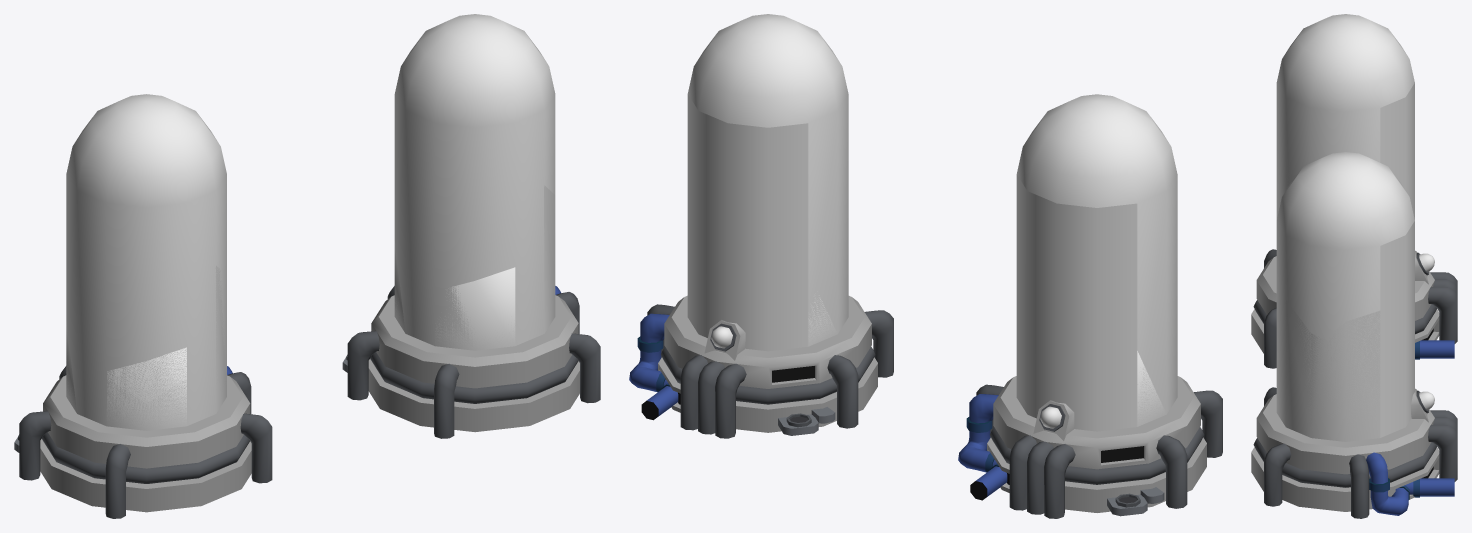
The model's file is cryotube.fbx.
3 renders of one model, left to right at view 1: azimuth 30°, elevation 25°; view 2: azimuth 150°, elevation 25°; view 3: azimuth 270°, elevation 25°, orthographic. The views are drawn at different scales.
Visible parts, largest first — view 1: CryotubeGlassGreen, CryotubeGlassBlue, CryotubeBaseGreen, CryotubeBaseBlue, CryotubeGlassBrokenGreen, CryotubeGlassBrokenBlue; view 2: CryotubeDoorBlue, CryotubeDoorGreen, CryotubeBaseBlue, CryotubeBaseGreen, CryotubeGlassBlue, CryotubeGlassGreen, CryotubeGlassBrokenGreen, CryotubeGlassBrokenBlue; view 3: CryotubeGlassBlue, CryotubeBaseBlue, CryotubeGlassGreen, CryotubeGlassBrokenBlue, CryotubeDoorBlue, CryotubeBaseGreen, CryotubeDoorGreen.
Part boxes in pixels (x1,y1,x2,y2): CryotubeGlassGreen: [66, 94, 226, 430]; CryotubeGlassBlue: [394, 14, 555, 350]; CryotubeBaseGreen: [14, 366, 272, 518]; CryotubeBaseBlue: [342, 286, 600, 438]; CryotubeGlassBrokenGreen: [66, 265, 226, 430]; CryotubeGlassBrokenBlue: [394, 185, 555, 350]; CryotubeDoorBlue: [687, 94, 808, 351]; CryotubeDoorGreen: [1016, 174, 1137, 431]; CryotubeBaseBlue: [629, 295, 893, 438]; CryotubeBaseGreen: [958, 376, 1222, 518]; CryotubeGlassBlue: [687, 14, 848, 345]; CryotubeGlassGreen: [1017, 94, 1177, 426]; CryotubeGlassBrokenGreen: [1137, 351, 1166, 426]; CryotubeGlassBrokenBlue: [808, 295, 837, 346]; CryotubeGlassBlue: [1276, 152, 1414, 441]; CryotubeBaseBlue: [1251, 387, 1457, 518]; CryotubeGlassGreen: [1276, 14, 1414, 219]; CryotubeGlassBrokenBlue: [1285, 300, 1380, 441]; CryotubeDoorBlue: [1380, 221, 1414, 437]; CryotubeBaseGreen: [1251, 249, 1457, 368]; CryotubeDoorGreen: [1380, 83, 1414, 219].
Bounding box in the file's own units: 4.99 × 3.19 × 1.9.
